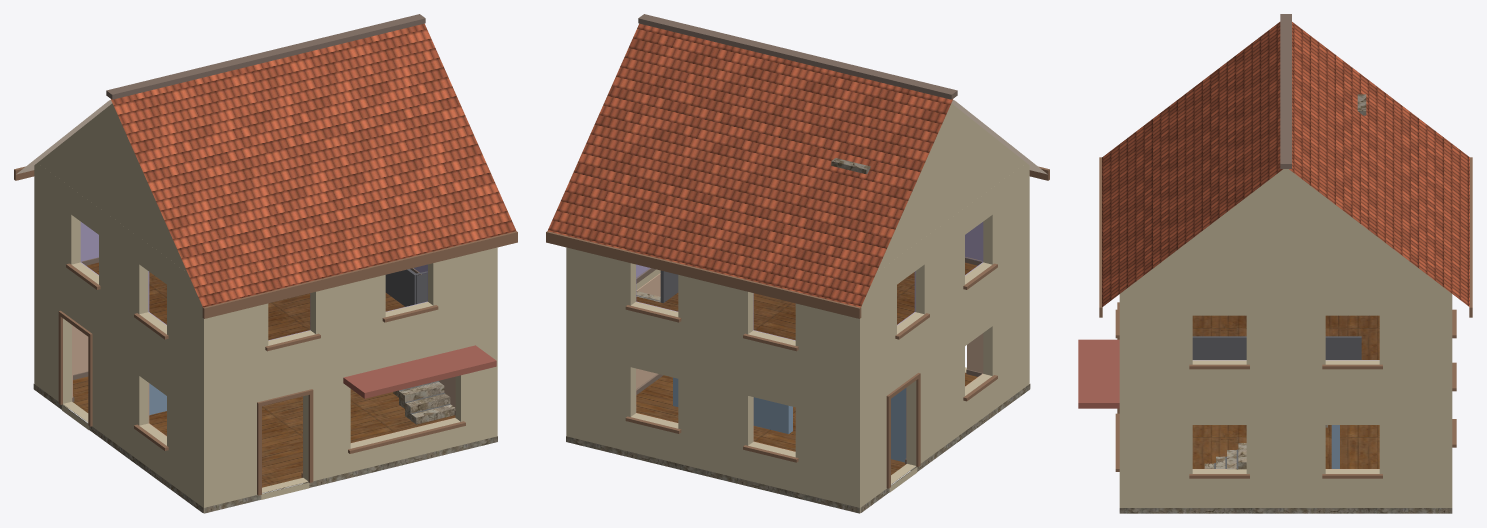
Rendered from bakery.panes-v1.lod0.glb.
3 renders of one model, left to right at view 1: azimuth 30°, elevation 25°; view 2: azimuth 150°, elevation 25°; view 3: azimuth 270°, elevation 25°, orthographic.
Visible parts, largest first — view 1: bakery; view 2: bakery; view 3: bakery.
Boxes of the visible parts, bbox=[...] form: bakery: bbox=[14, 14, 517, 513]; bakery: bbox=[546, 14, 1049, 513]; bakery: bbox=[1078, 14, 1472, 513].
Bounding box in the file's own units: 8.54 × 9.41 × 9.49.
Materials: 4 (3 with a texture image).
